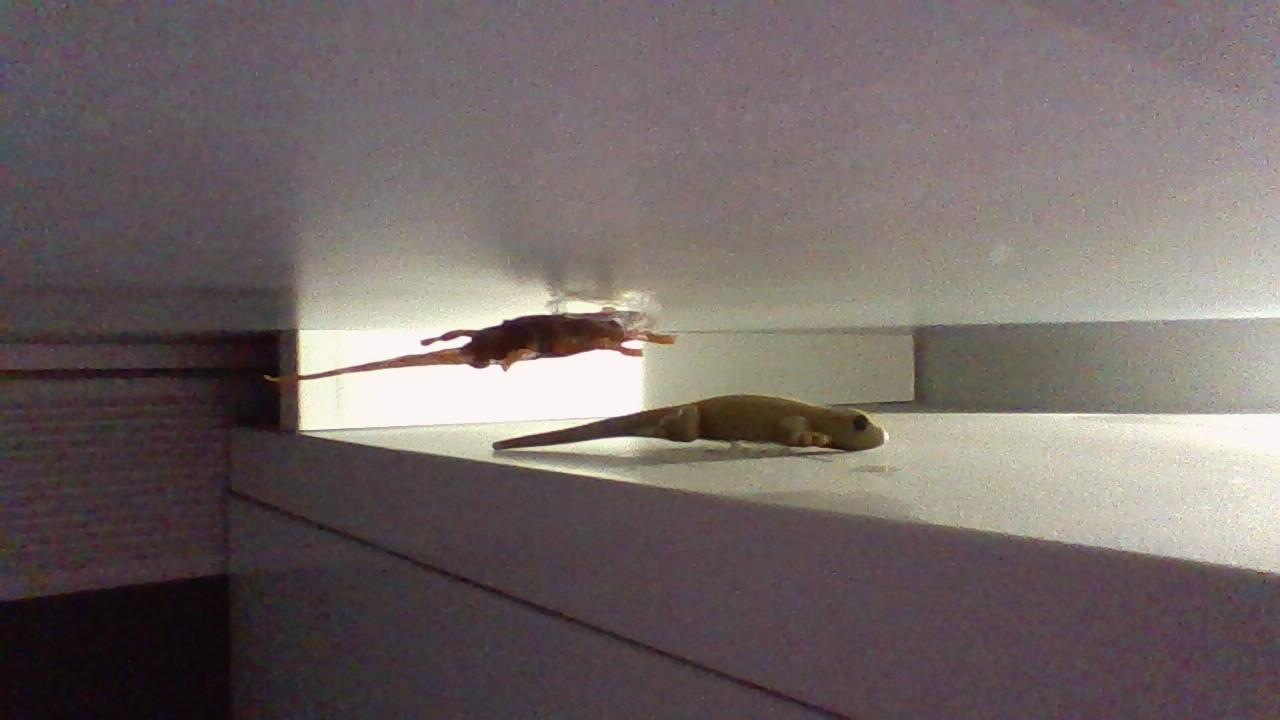cockroach: (265, 303, 695, 379)
lizard: (477, 386, 912, 497)
